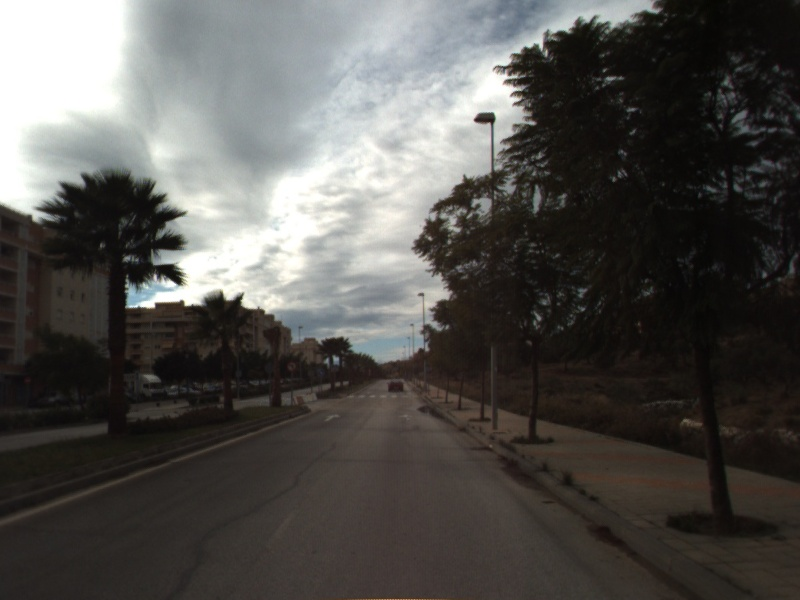STRAIGHT: (322, 412, 343, 424)
